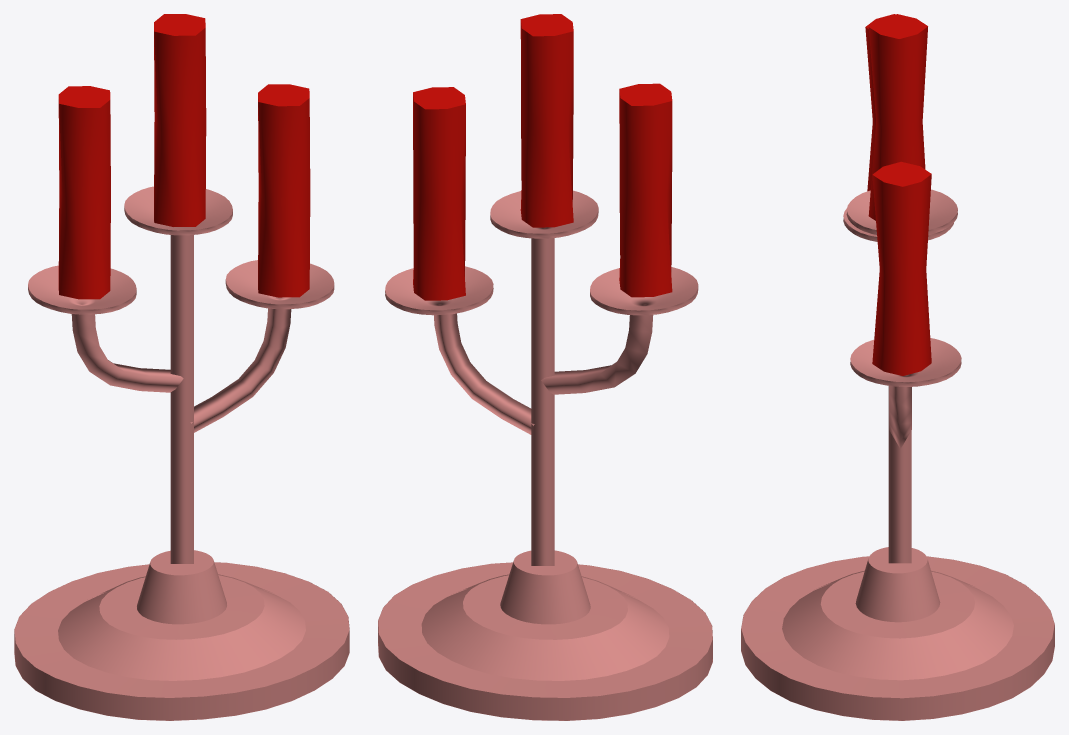
File: candle.gltf
3 views of the same model, side by side, from view 1: azimuth 30°, elevation 25°; view 2: azimuth 150°, elevation 25°; view 3: azimuth 270°, elevation 25° (orthographic).
Visible parts, largest first — view 1: Socle1, bougie3, bougie1, bougie2, Tube2, Tube1, Tube3, coupelle3, coupelle1, coupelle2; view 2: Socle1, bougie3, bougie1, bougie2, Tube2, Tube1, Tube3, coupelle3, coupelle1, coupelle2; view 3: Socle1, bougie1, bougie2, Tube2, coupelle1, coupelle2, Tube1, bougie3.
Part boxes in pixels (<box>): Socle1: <box>14,550,349,720</box>; bougie3: <box>58,86,110,299</box>; bougie1: <box>258,84,310,297</box>; bougie2: <box>154,14,206,226</box>; Tube2: <box>170,235,193,563</box>; Tube1: <box>190,308,291,432</box>; Tube3: <box>71,314,183,392</box>; coupelle3: <box>28,265,136,314</box>; coupelle1: <box>225,260,334,309</box>; coupelle2: <box>124,186,232,235</box>; Socle1: <box>378,550,712,720</box>; bougie3: <box>619,83,672,297</box>; bougie1: <box>413,87,465,300</box>; bougie2: <box>520,14,573,227</box>; Tube2: <box>531,238,554,565</box>; Tube1: <box>434,313,534,434</box>; Tube3: <box>541,315,653,394</box>; coupelle3: <box>590,267,698,315</box>; coupelle1: <box>385,266,493,315</box>; coupelle2: <box>490,190,598,238</box>; Socle1: <box>741,547,1054,720</box>; bougie1: <box>872,161,931,375</box>; bougie2: <box>868,14,927,220</box>; Tube2: <box>888,386,911,563</box>; coupelle1: <box>850,338,961,386</box>; coupelle2: <box>846,189,957,234</box>; Tube1: <box>889,386,911,448</box>; bougie3: <box>865,14,895,191</box>.
Size of the model in its own units: 0.1336 by 0.2698 by 0.1233.
